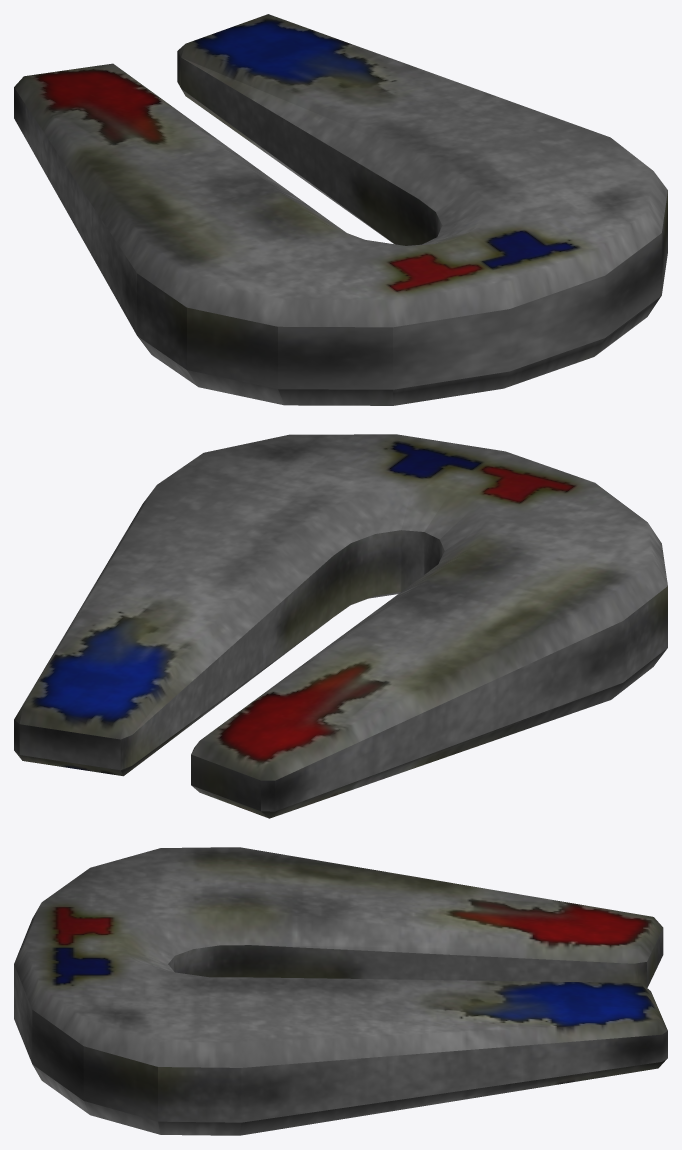
Rendered from item_magnet.dae.
The picture shows the model from 3 angles, top to bottom: view 1: azimuth 30°, elevation 25°; view 2: azimuth 150°, elevation 25°; view 3: azimuth 270°, elevation 25°; orthographic projection. The views are drawn at different scales.
Parts seen in each view (by area): view 1: magnet; view 2: magnet; view 3: magnet.
Part boxes in pixels (x1,y1,x2,y2): magnet: [14, 14, 667, 405]; magnet: [14, 434, 667, 818]; magnet: [14, 847, 667, 1135].
Size of what is drawn, in the model's own units: 0.1651 by 0.0342 by 0.2197.
